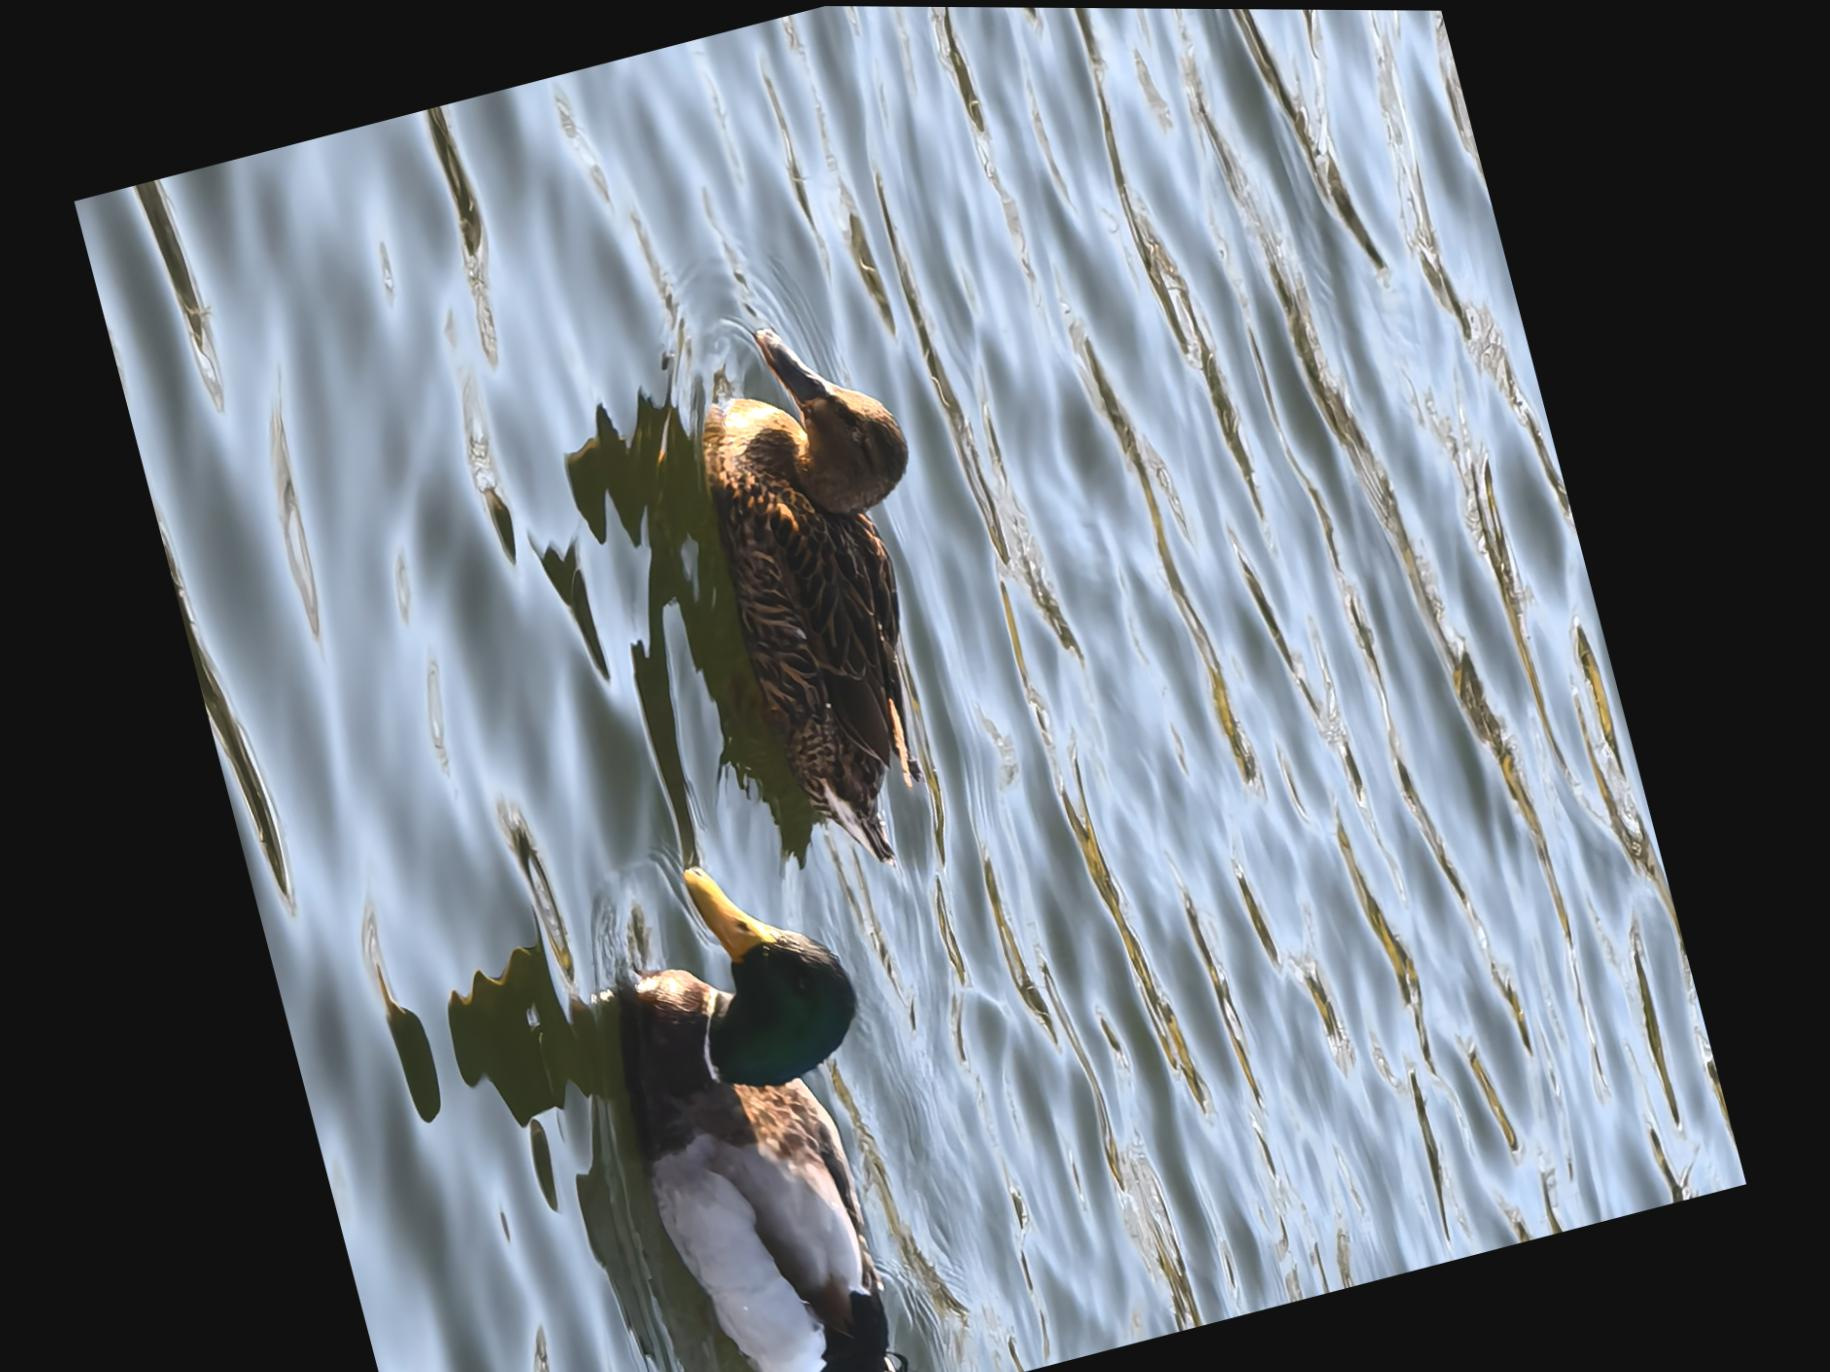duck: (561, 836, 980, 1372), (659, 293, 1022, 883)
